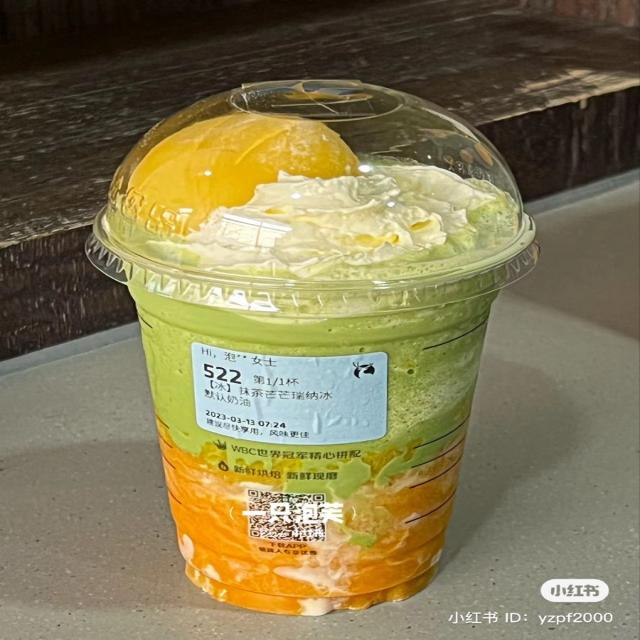plastic cup: (84, 81, 538, 618)
